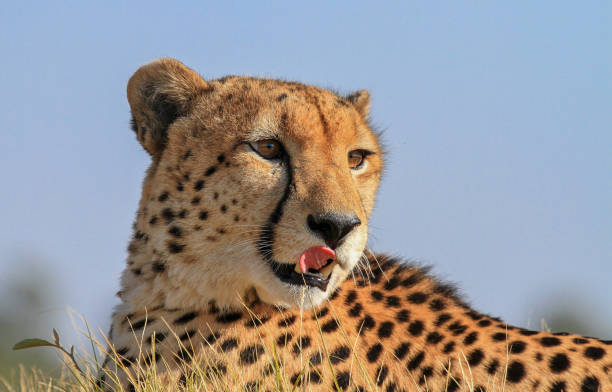cheetah: (94, 31, 408, 326)
